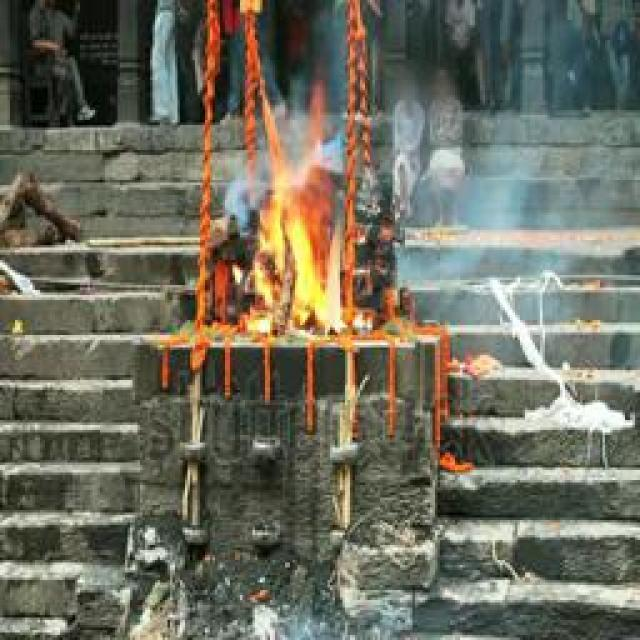Fire: (245, 106, 372, 343)
